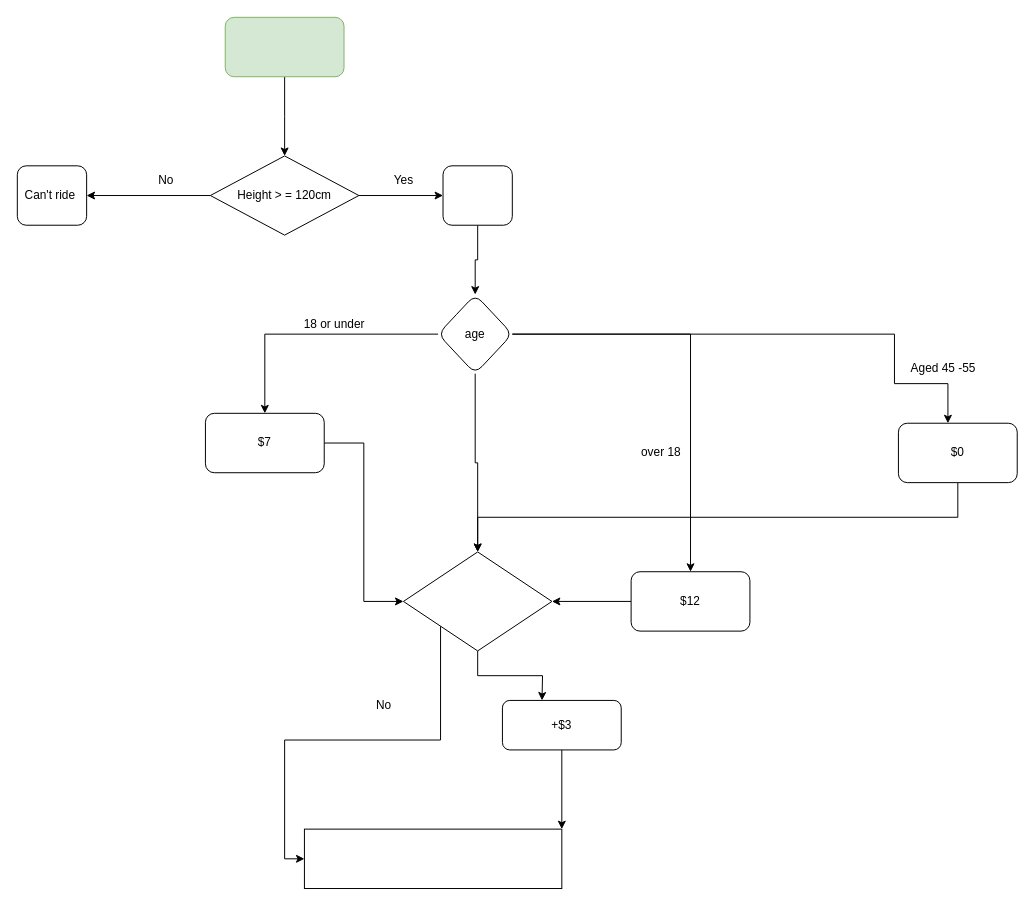
Some shapes in this 1035 by 906 pixel diagram are drawn without their labels. The centre of each missing label's shape, as x and y in pixels:
"can ride" goes at [477,195].
"Do you want a photo" goes at [477,601].
"start" goes at [284,46].
"The total bill is $X" goes at [432,858].
